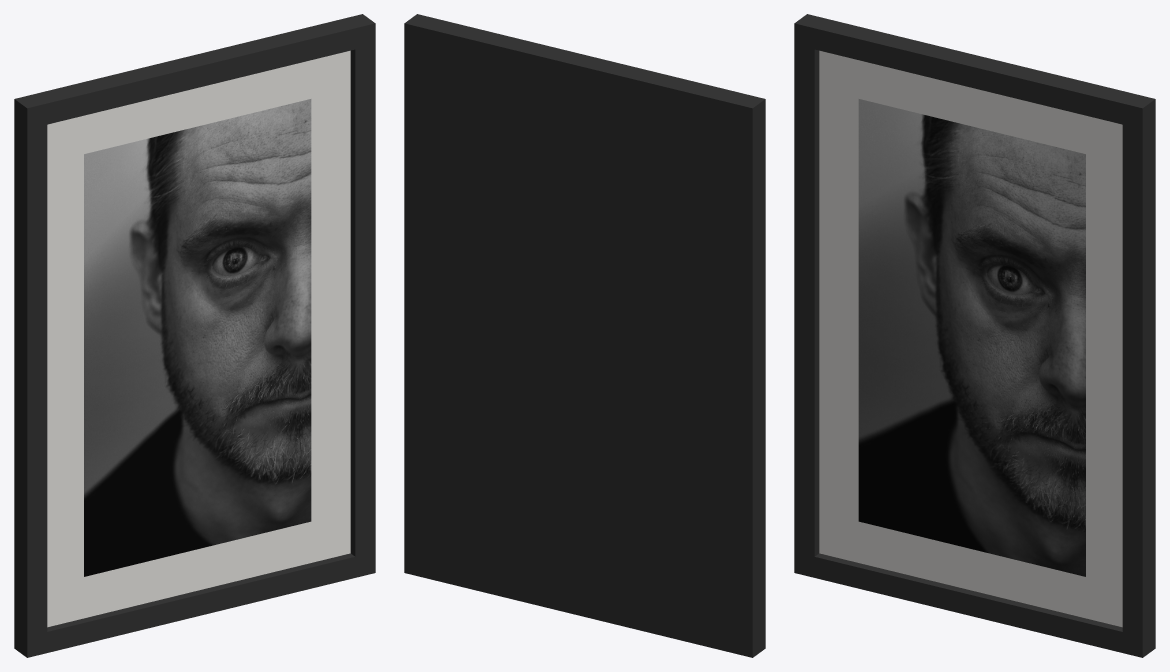
Rendered from blicken-40.gltf.
3 views of the same model, side by side, from view 1: azimuth 30°, elevation 25°; view 2: azimuth 150°, elevation 25°; view 3: azimuth 330°, elevation 25° (orthographic).
Parts seen in each view (by area): view 1: tavla; view 2: tavla; view 3: tavla.
Boxes of the visible parts, x1,y1,x2,y2 form: tavla: [14, 14, 375, 657]; tavla: [404, 14, 765, 657]; tavla: [794, 14, 1155, 657].
Size of the model in its own units: 0.3449 by 0.52 by 0.022.
Materials: 3 (1 with a texture image).
